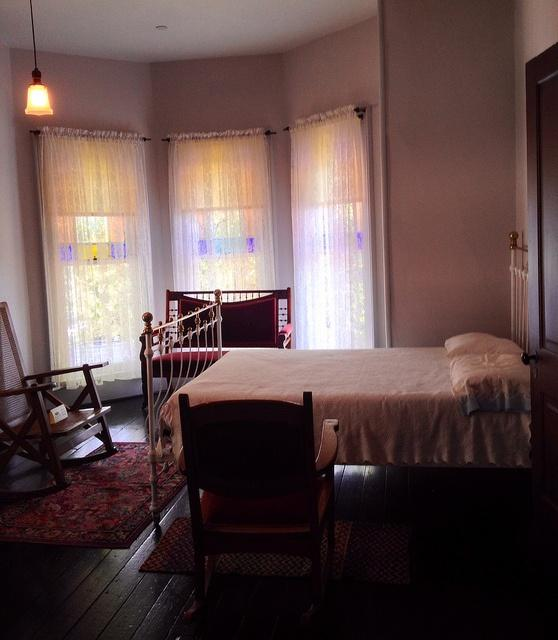Kursi: (176, 389, 340, 630), (0, 300, 114, 497)
